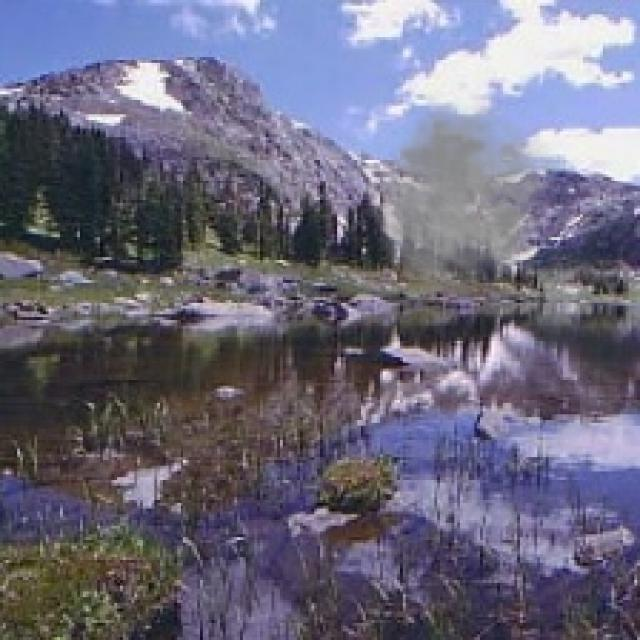smoke: (366, 92, 566, 297)
